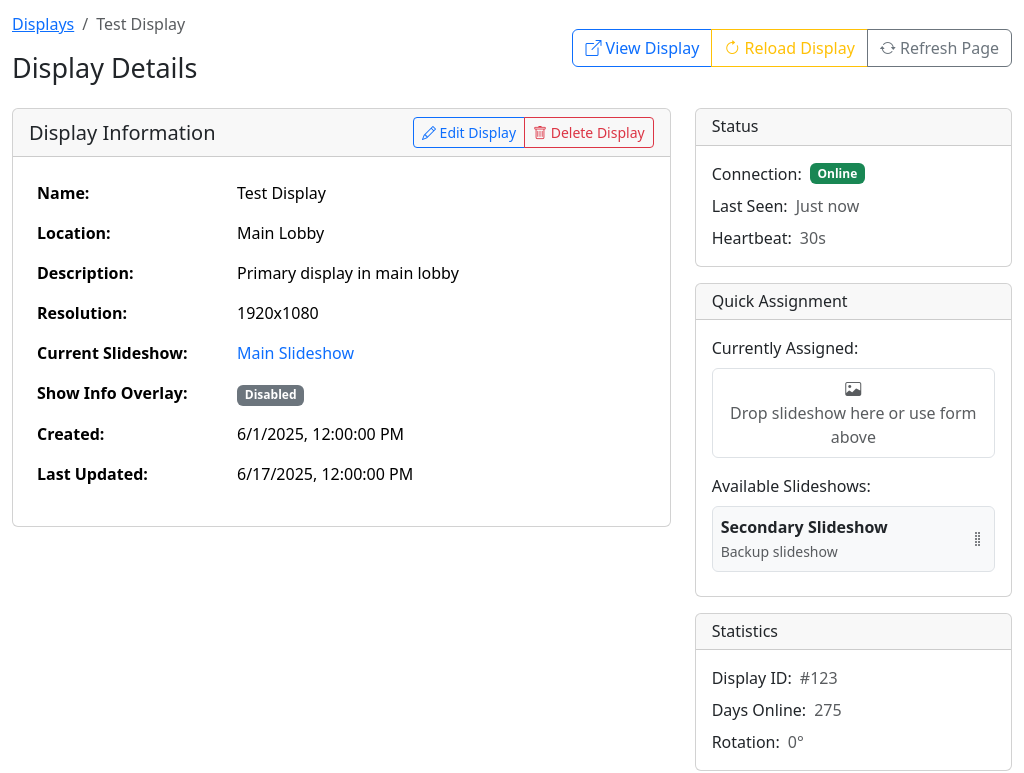
Test: DisplayDetail › handles update errors gracefully
// Enter edit mode and save
Click the button "Edit Display". click: (469, 133)
box: left=413, top=117, right=525, bottom=148
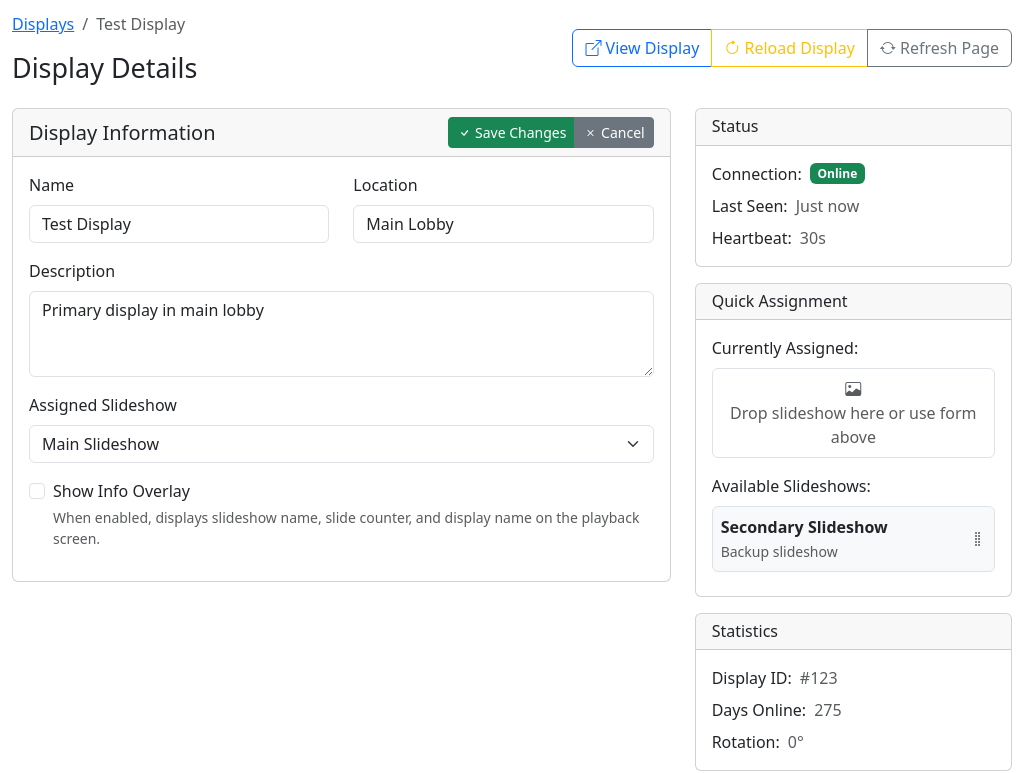
Click the button "Save Changes". click: (512, 133)
box: left=448, top=117, right=575, bottom=148
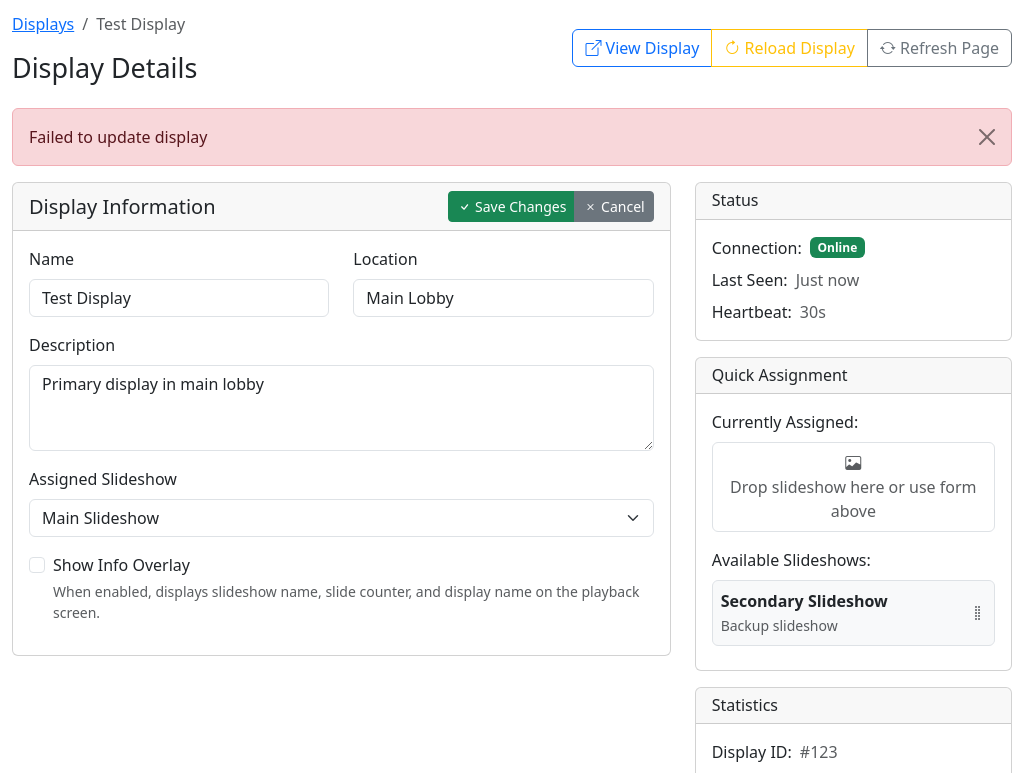
Expected: the text "Failed to update display" is shown, left=12, top=108, right=1012, bottom=166
